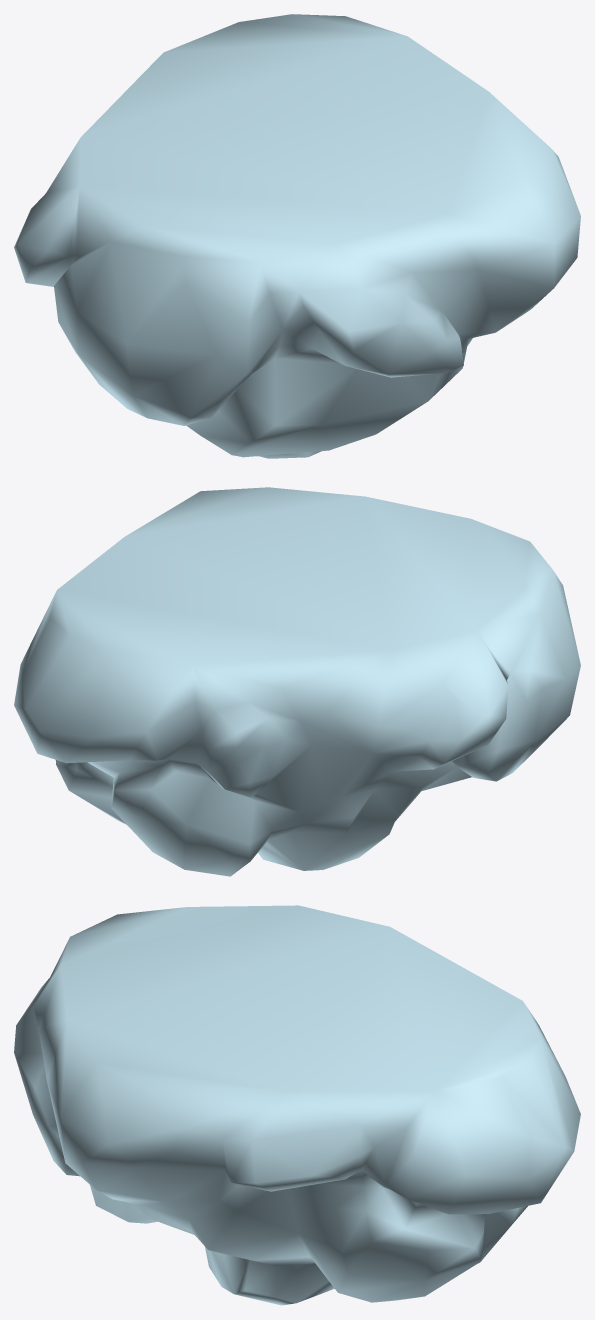
The model's file is island_9_LOD4.fbx.
3 renders of one model, top to bottom at view 1: azimuth 30°, elevation 25°; view 2: azimuth 150°, elevation 25°; view 3: azimuth 270°, elevation 25°, orthographic. The views are drawn at different scales.
Parts seen in each view (by area): view 1: island_9_LOD4; view 2: island_9_LOD4; view 3: island_9_LOD4.
Part boxes in pixels (x1,y1,x2,y2): island_9_LOD4: [14, 14, 580, 458]; island_9_LOD4: [14, 487, 580, 876]; island_9_LOD4: [14, 905, 580, 1305].
Size of the model in its own units: 1338 by 780 by 1419.
